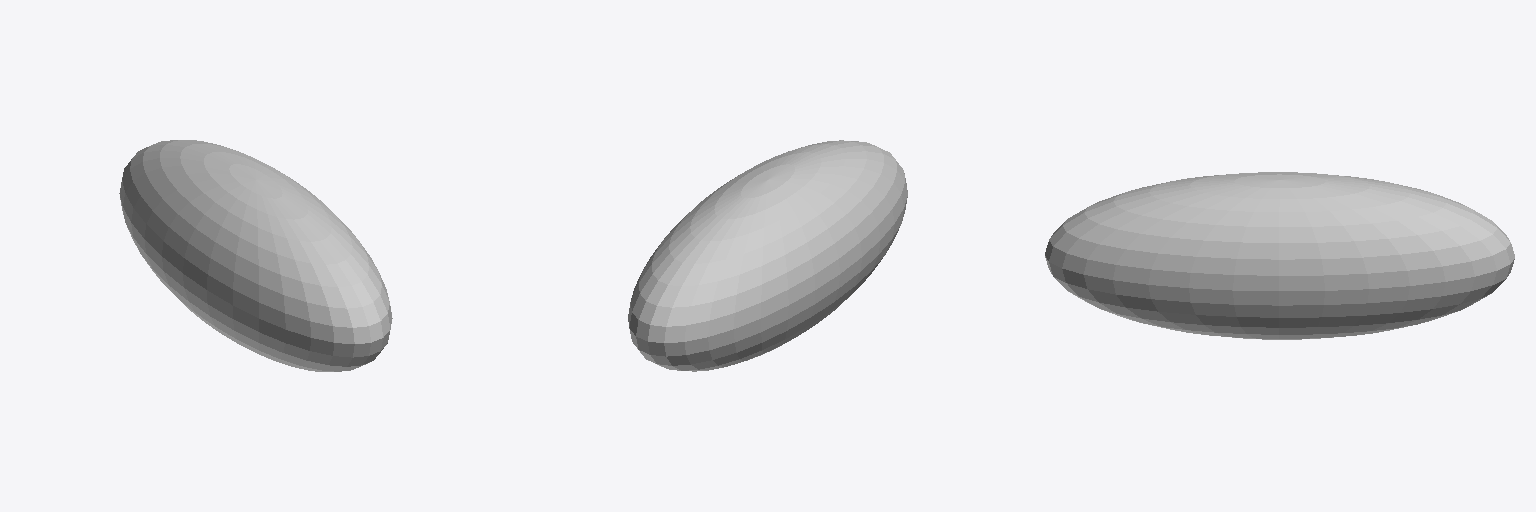
Rendered from fanneru.obj.
3 views of the same model, side by side, from view 1: azimuth 30°, elevation 25°; view 2: azimuth 150°, elevation 25°; view 3: azimuth 270°, elevation 25° (orthographic).
Parts seen in each view (by area): view 1: 球_球.002; view 2: 球_球.002; view 3: 球_球.002.
Part boxes in pixels (bbox=[...]): 球_球.002: bbox=[119, 140, 392, 371]; 球_球.002: bbox=[628, 140, 907, 371]; 球_球.002: bbox=[1045, 172, 1514, 339].
Size of the model in its own units: 2 by 2 by 5.61.